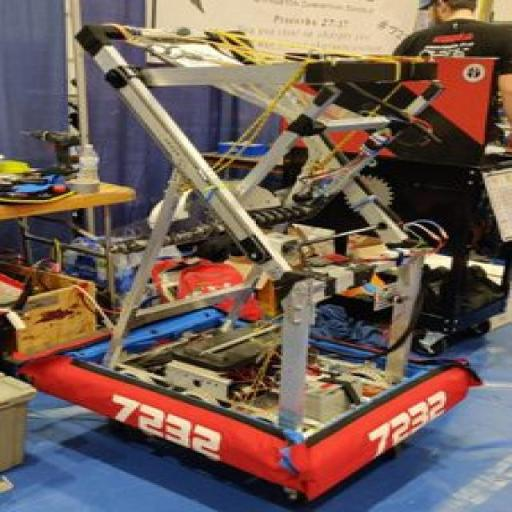robot: (18, 12, 500, 501)
